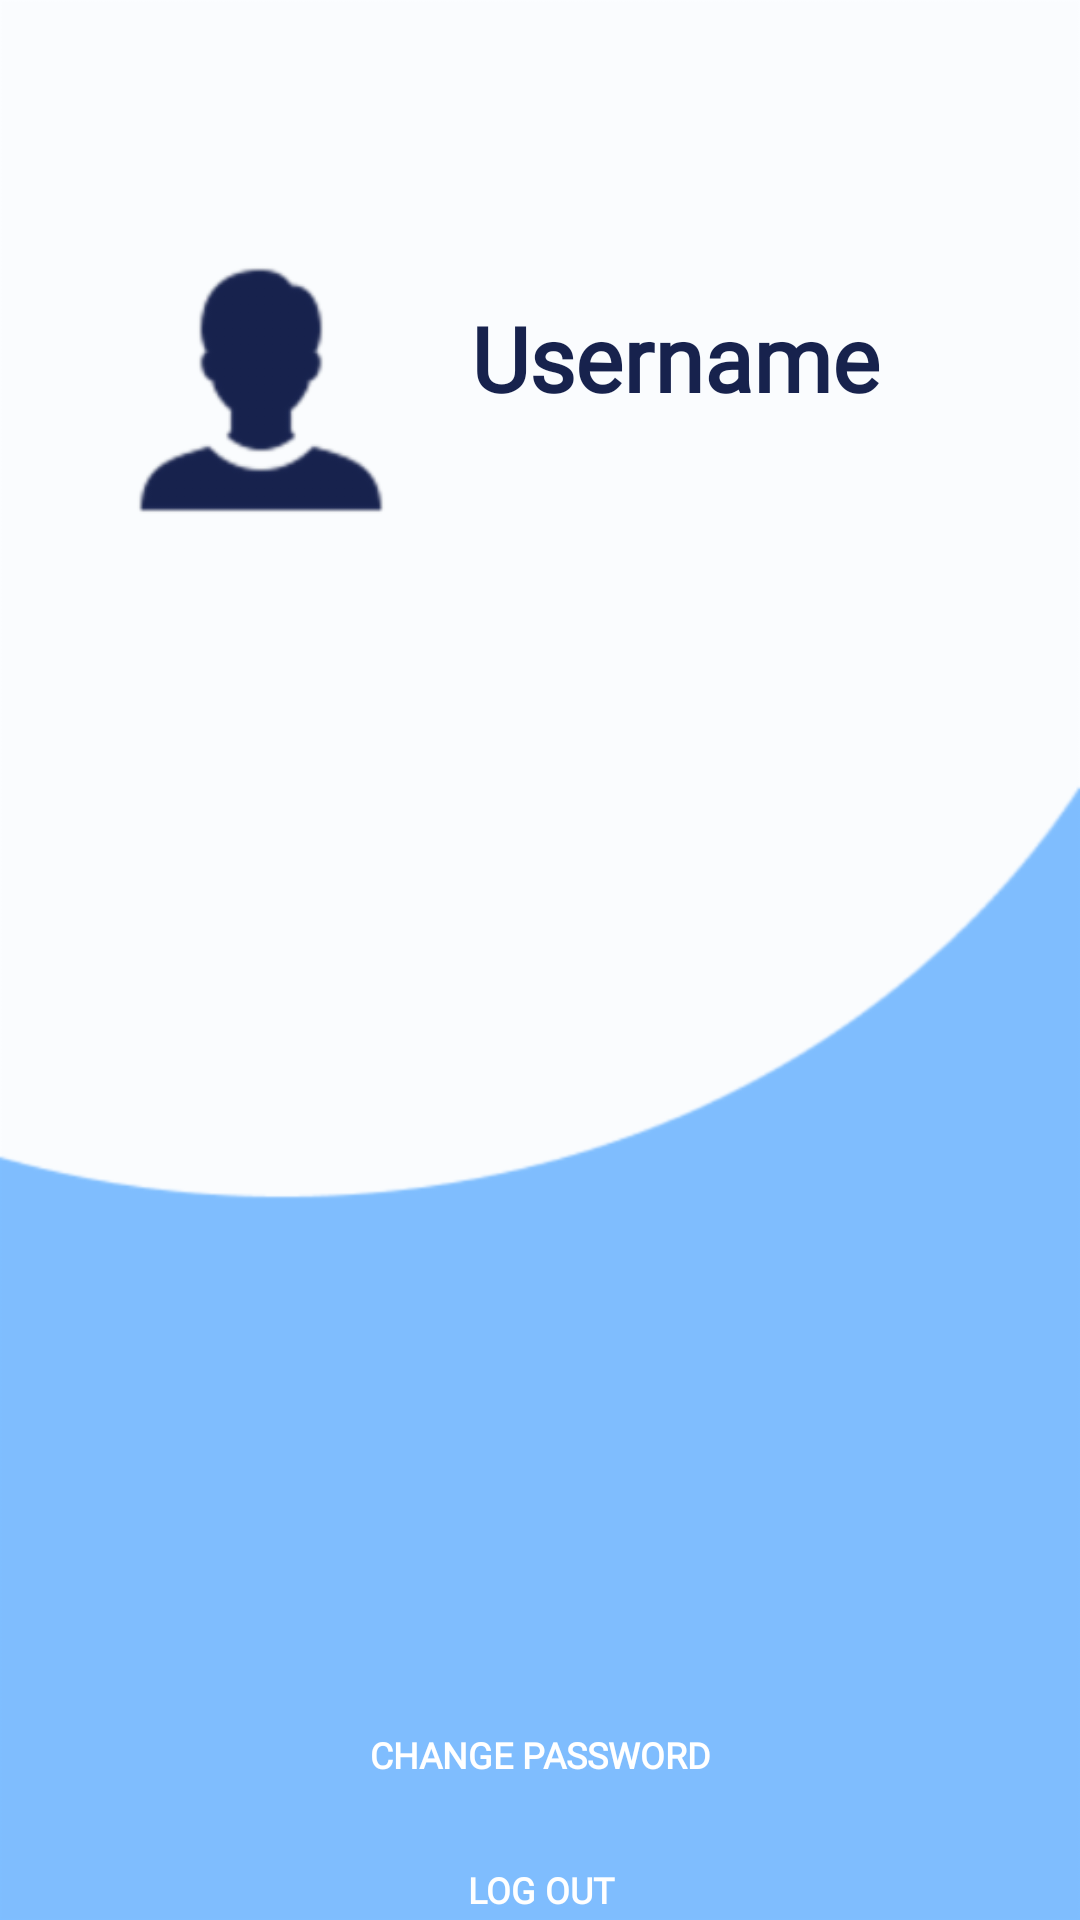

Icon bounding boxes for this 1080x1920 phone screenshot, format (x1, y1, x2, y2):
account: (139, 268, 383, 512)
